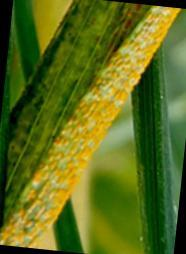Wheat: (3, 4, 180, 235)
